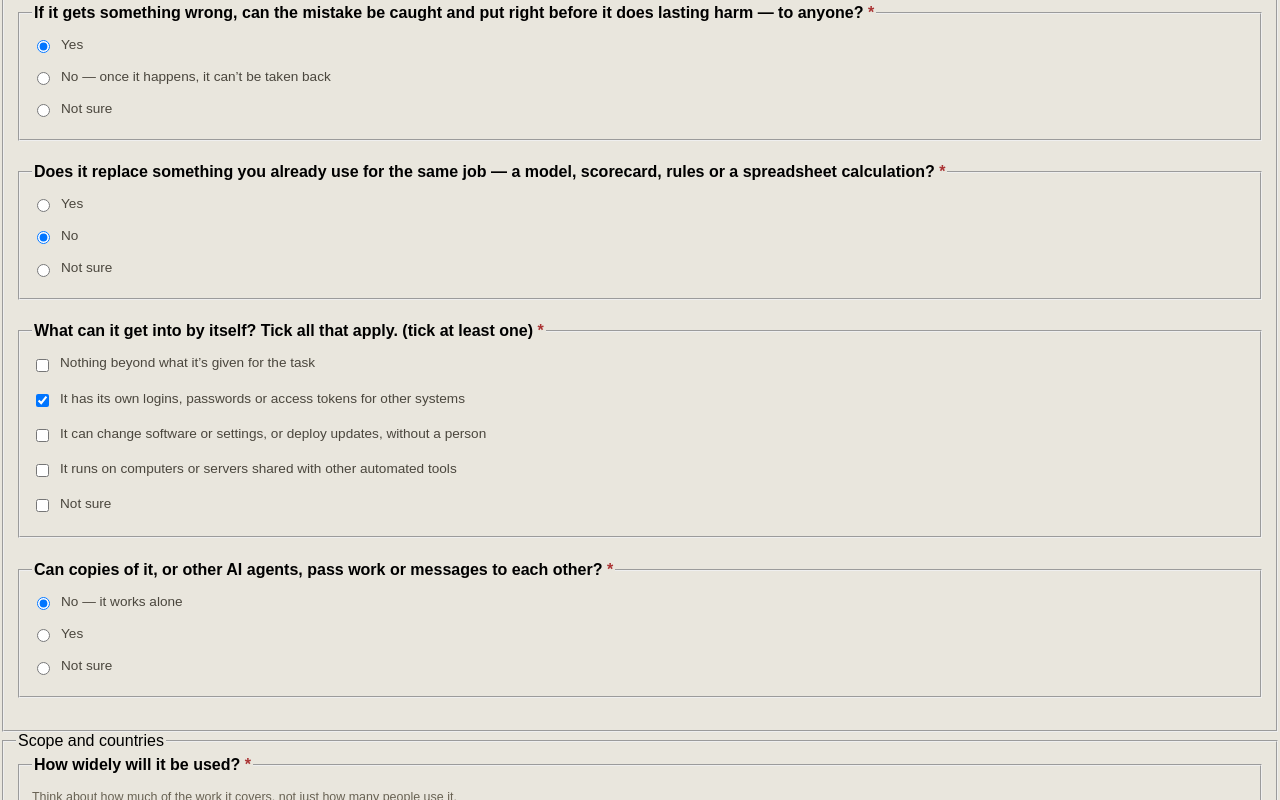
it: StructuredForm — conditional follow-ups (§2.2 Details) › TC-R16-F-62: unticking every Q13 box shows no alert — it is simply not answered yet
(page scrolled)
Click the checkbox labelled "its own logins, passwords or access tokens" at (42, 400), box [36,394,49,407]
(page scrolled)
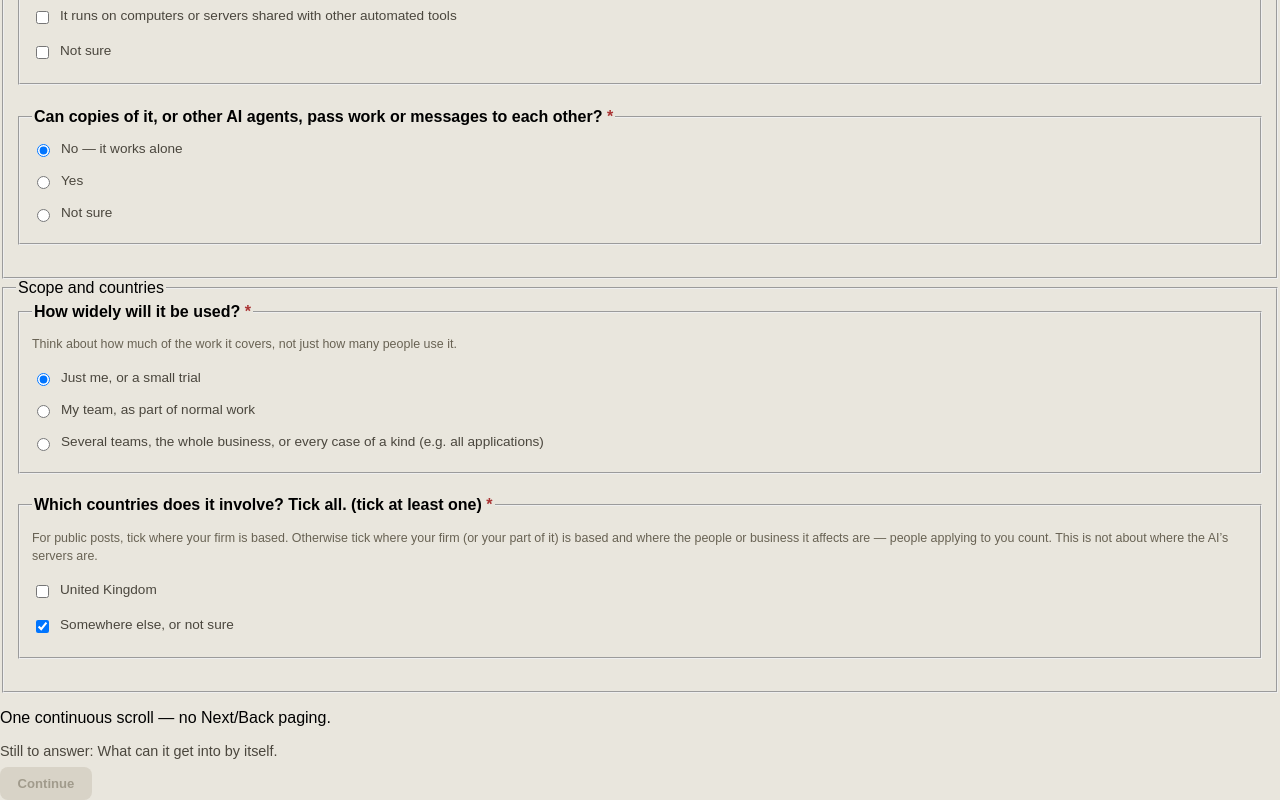
expect the button "Continue" is disabled: met, box [0,768,92,799]
